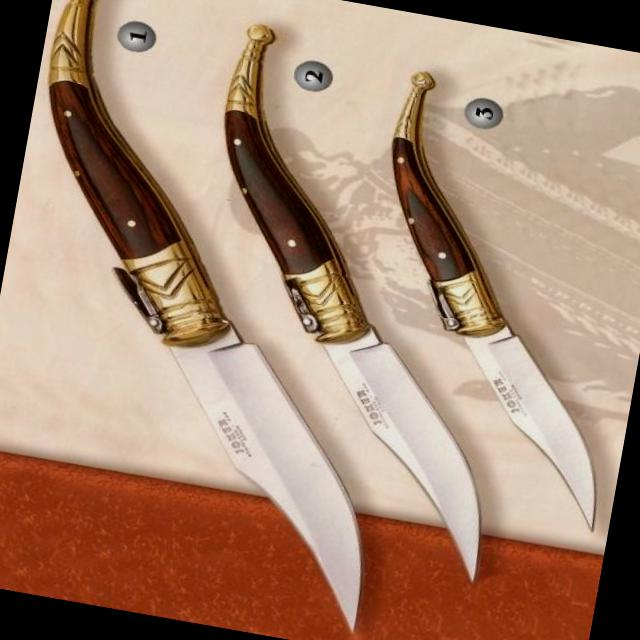knife: (139, 339, 401, 639), (310, 347, 515, 588), (484, 340, 628, 533)
